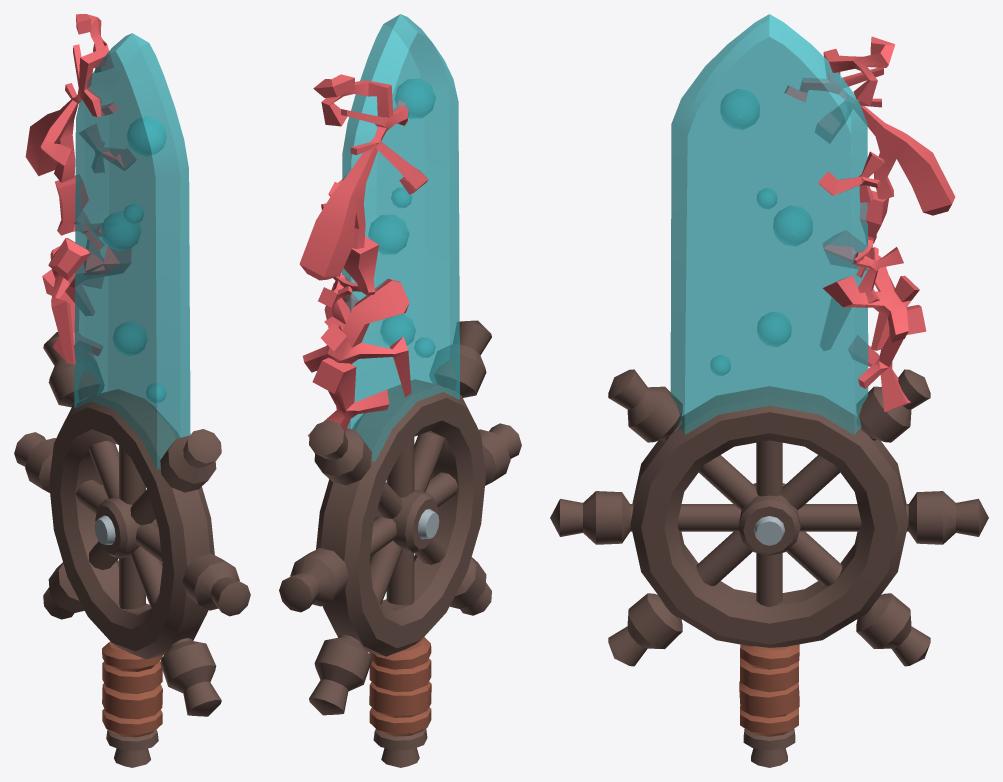
Rendered from coral_sword.fbx.
The picture shows the model from 3 angles, left to right: view 1: azimuth 30°, elevation 25°; view 2: azimuth 150°, elevation 25°; view 3: azimuth 270°, elevation 25°; orthographic projection. The views are drawn at different scales.
Parts seen in each view (by area): view 1: coral_sword; view 2: coral_sword; view 3: coral_sword.
Boxes of the visible parts, bbox=[...] form: coral_sword: bbox=[14, 14, 250, 767]; coral_sword: bbox=[279, 14, 521, 767]; coral_sword: bbox=[550, 14, 988, 767].
Size of the model in its own units: 0.2686 by 2 by 1.06.
